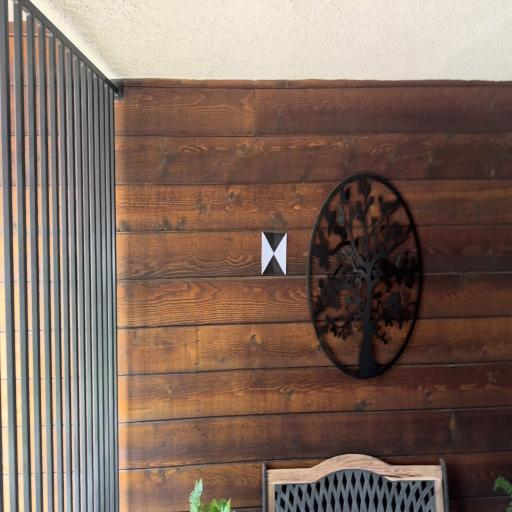target: (262, 233, 286, 274)
